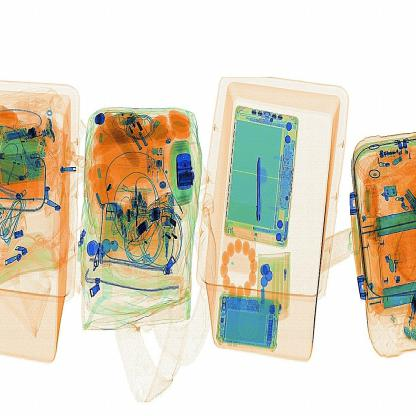pliers: (249, 144, 272, 229)
